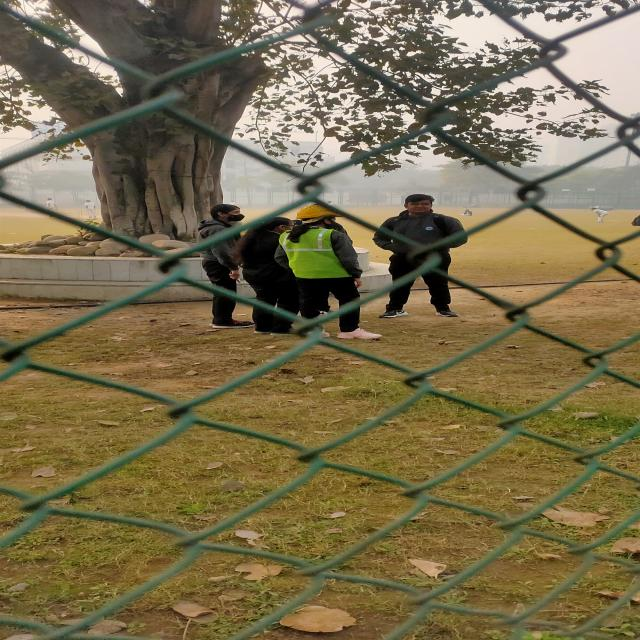safe: (283, 204, 382, 339)
unsafe: (374, 194, 464, 317), (240, 217, 297, 336), (200, 202, 250, 327)
